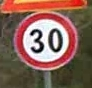limite 30: (13, 10, 78, 70)
